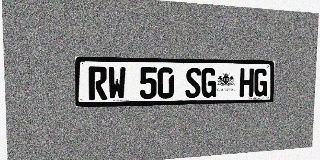0: (157, 67, 174, 99)
5: (140, 67, 157, 99)
G: (201, 68, 217, 98), (254, 68, 268, 97)
H: (239, 68, 254, 97)
R: (88, 66, 107, 100)
S: (185, 68, 201, 98)
W: (108, 67, 126, 100)
